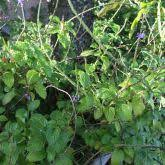snakeweed: (71, 59, 156, 129)
